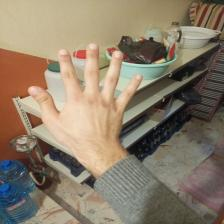five: (29, 44, 146, 154)
